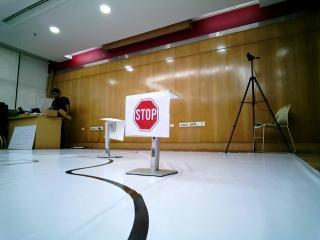stop: (129, 96, 172, 137)
